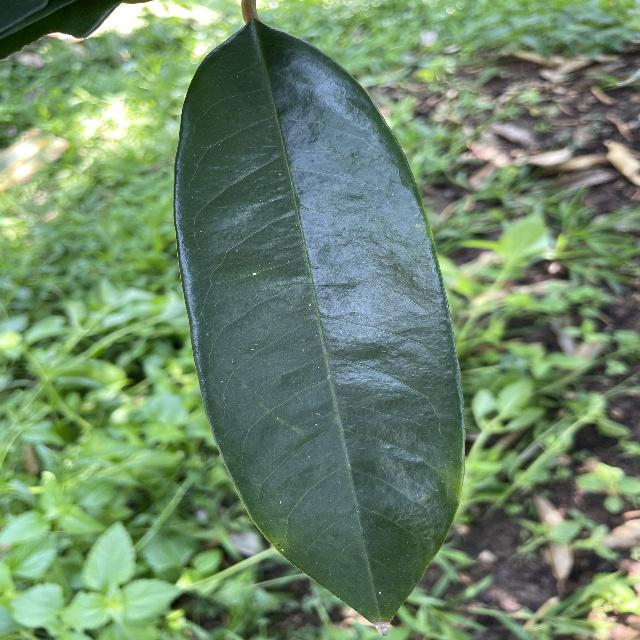No Disease: (165, 13, 482, 639)
